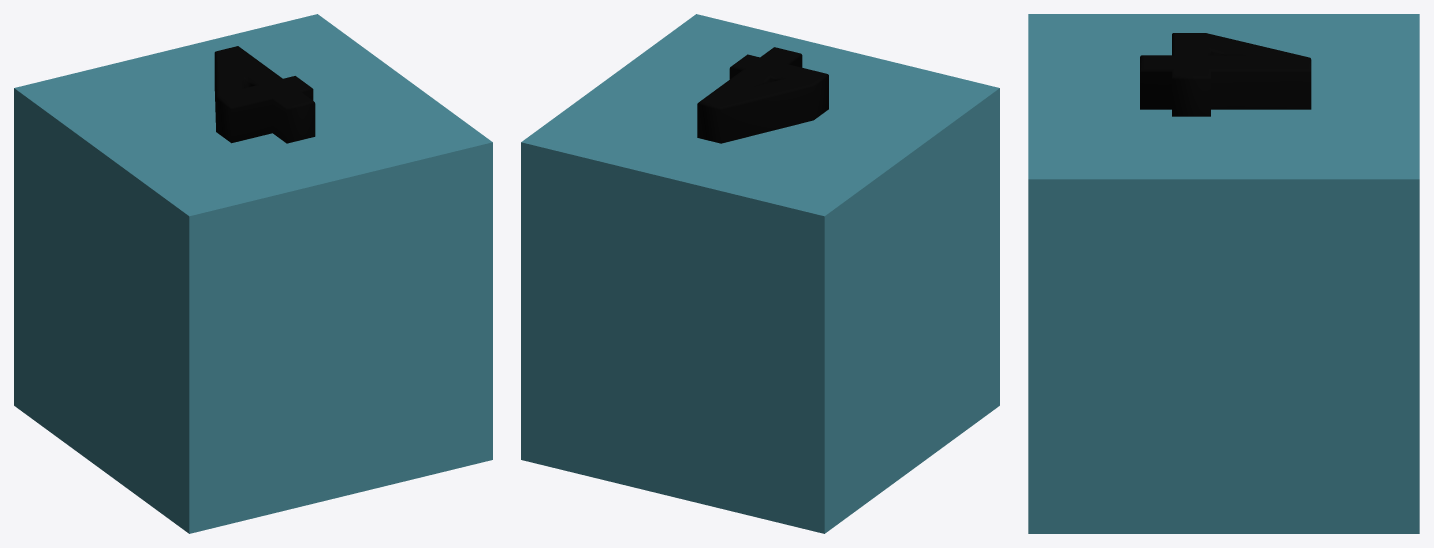
The model's file is level4.fbx.
3 renders of one model, left to right at view 1: azimuth 30°, elevation 25°; view 2: azimuth 150°, elevation 25°; view 3: azimuth 270°, elevation 25°, orthographic. The views are drawn at different scales.
Visible parts, largest first — view 1: Text; view 2: Text; view 3: Text.
Part boxes in pixels (<box>): Text: <box>14,14,492,533</box>; Text: <box>521,14,999,533</box>; Text: <box>1028,14,1419,533</box>.
Size of the model in its own units: 200 by 223 by 200.
